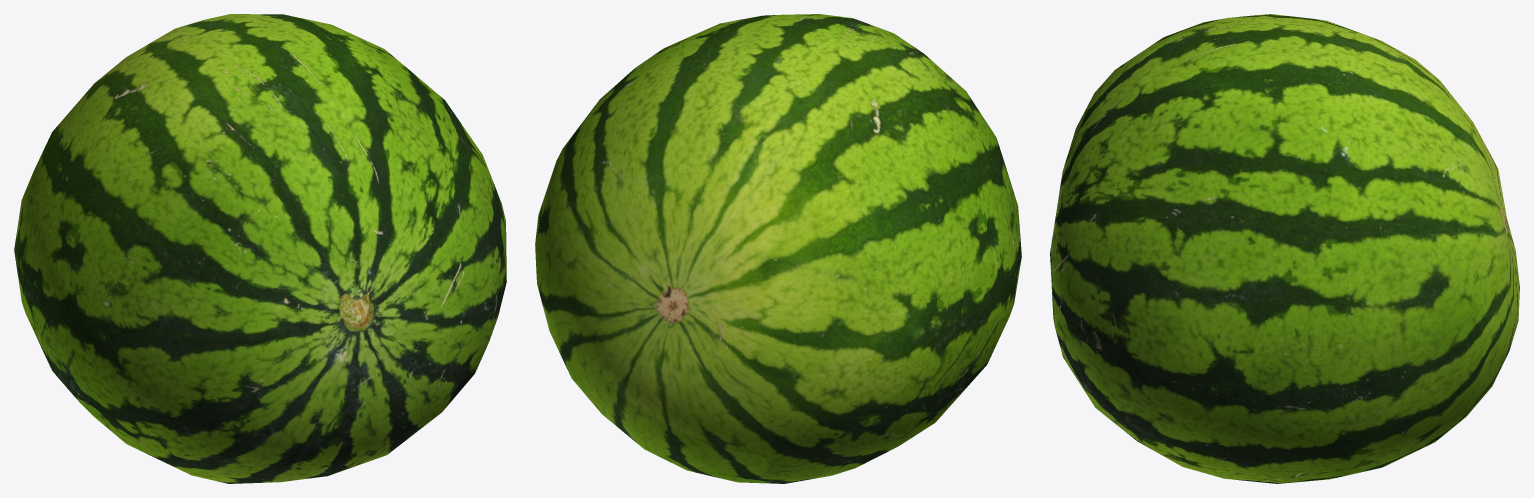
Rendered from 3DMelon001_LQ-1K-JPG.obj.
3 renders of one model, left to right at view 1: azimuth 30°, elevation 25°; view 2: azimuth 150°, elevation 25°; view 3: azimuth 270°, elevation 25°, orthographic.
Parts seen in each view (by area): view 1: 3DMelon001_LQ-1K-JPG; view 2: 3DMelon001_LQ-1K-JPG; view 3: 3DMelon001_LQ-1K-JPG.
Part boxes in pixels (<box>): 3DMelon001_LQ-1K-JPG: <box>14,14,506,483</box>; 3DMelon001_LQ-1K-JPG: <box>535,14,1021,483</box>; 3DMelon001_LQ-1K-JPG: <box>1050,14,1519,483</box>.
Size of the model in its own units: 0.2452 by 0.2376 by 0.2397.
1 material, 1 textured.
